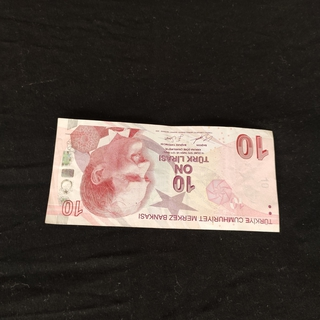10TLFront: (45, 116, 280, 237)
